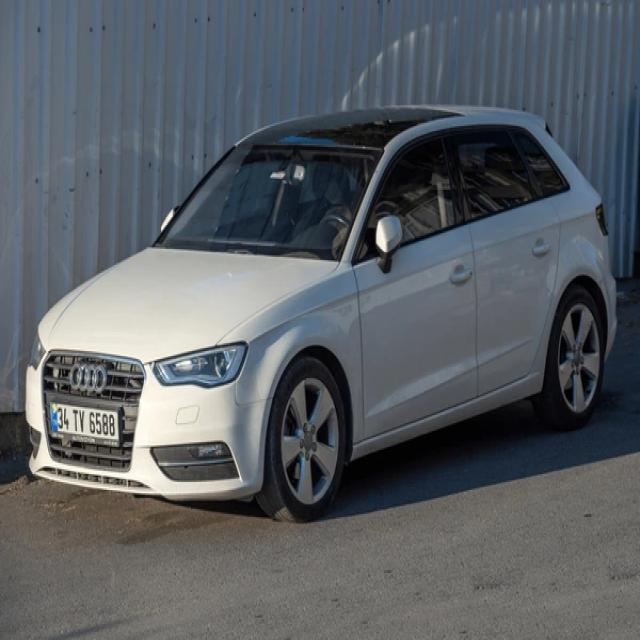audi: (71, 361, 109, 395)
